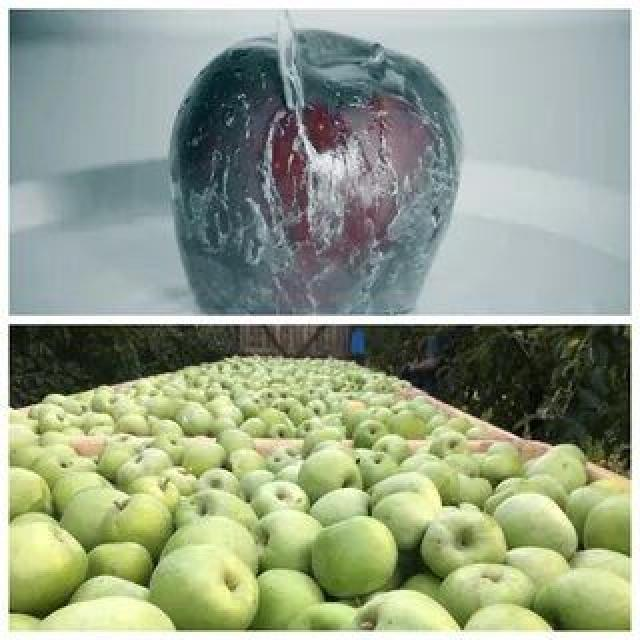Rotten: (182, 43, 460, 332)
